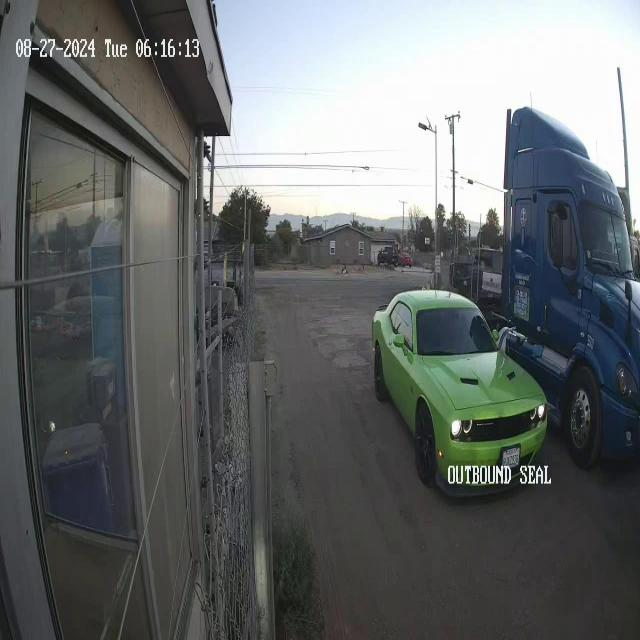TRUCK_IN: (497, 102, 639, 470)
